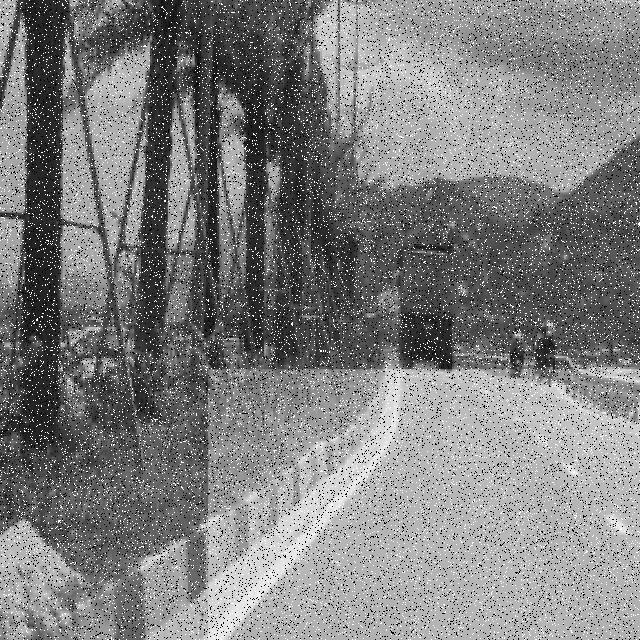clear-road: (227, 370, 640, 640)
